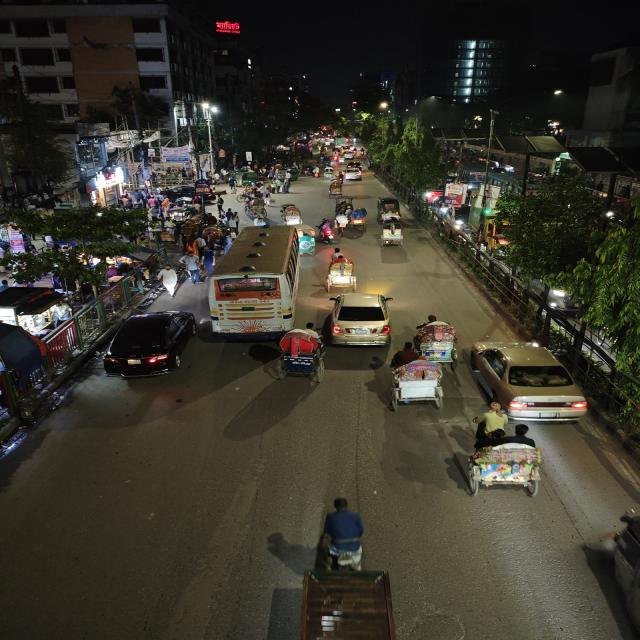bus: (206, 226, 303, 338)
car: (468, 337, 590, 425), (100, 307, 196, 381), (322, 291, 397, 349), (343, 160, 364, 179), (341, 168, 364, 182)
cng: (374, 195, 402, 221)
motorcycle: (315, 217, 338, 245)
pedestrian: (156, 264, 180, 298), (182, 252, 204, 284), (198, 246, 216, 276), (229, 209, 241, 230), (264, 186, 276, 204)
rickshaw: (302, 490, 394, 640), (453, 418, 553, 500), (379, 342, 452, 412), (276, 322, 328, 385), (413, 313, 463, 365), (322, 255, 361, 293), (380, 222, 403, 250), (278, 202, 304, 225), (298, 224, 317, 254), (242, 200, 270, 220), (347, 206, 369, 230), (335, 203, 353, 231), (326, 178, 346, 198), (320, 166, 334, 179)
